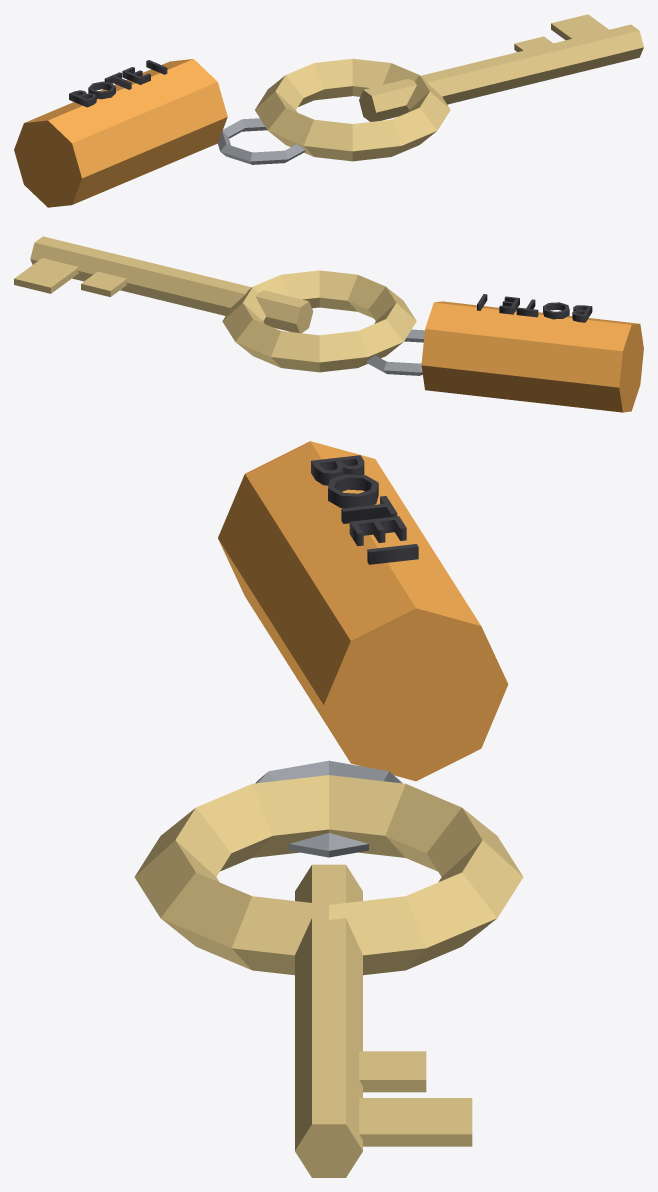
File: CR_LlaveBote.fbx
3 views of the same model, one above another, from view 1: azimuth 30°, elevation 25°; view 2: azimuth 150°, elevation 25°; view 3: azimuth 270°, elevation 25° (orthographic). The views are drawn at different scales.
Visible parts, largest first — view 1: CR_LlaveBote; view 2: CR_LlaveBote; view 3: CR_LlaveBote.
Boxes of the visible parts, x1,y1,x2,y2 form: CR_LlaveBote: [14, 14, 643, 207]; CR_LlaveBote: [14, 236, 643, 412]; CR_LlaveBote: [134, 441, 523, 1177].
Size of the model in its own units: 0.4052 by 0.062 by 0.114.
